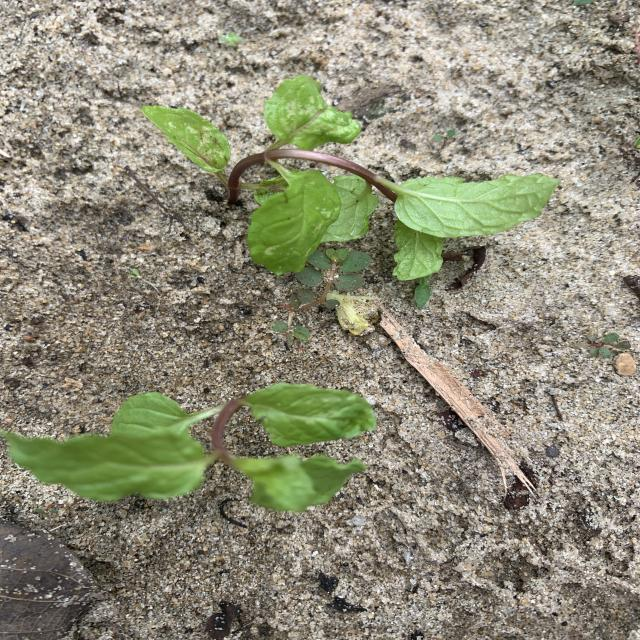crop: (142, 76, 559, 280), (3, 383, 373, 511)
weed: (270, 249, 371, 339), (587, 332, 625, 356), (415, 276, 431, 309), (432, 129, 456, 151), (220, 32, 242, 47)
